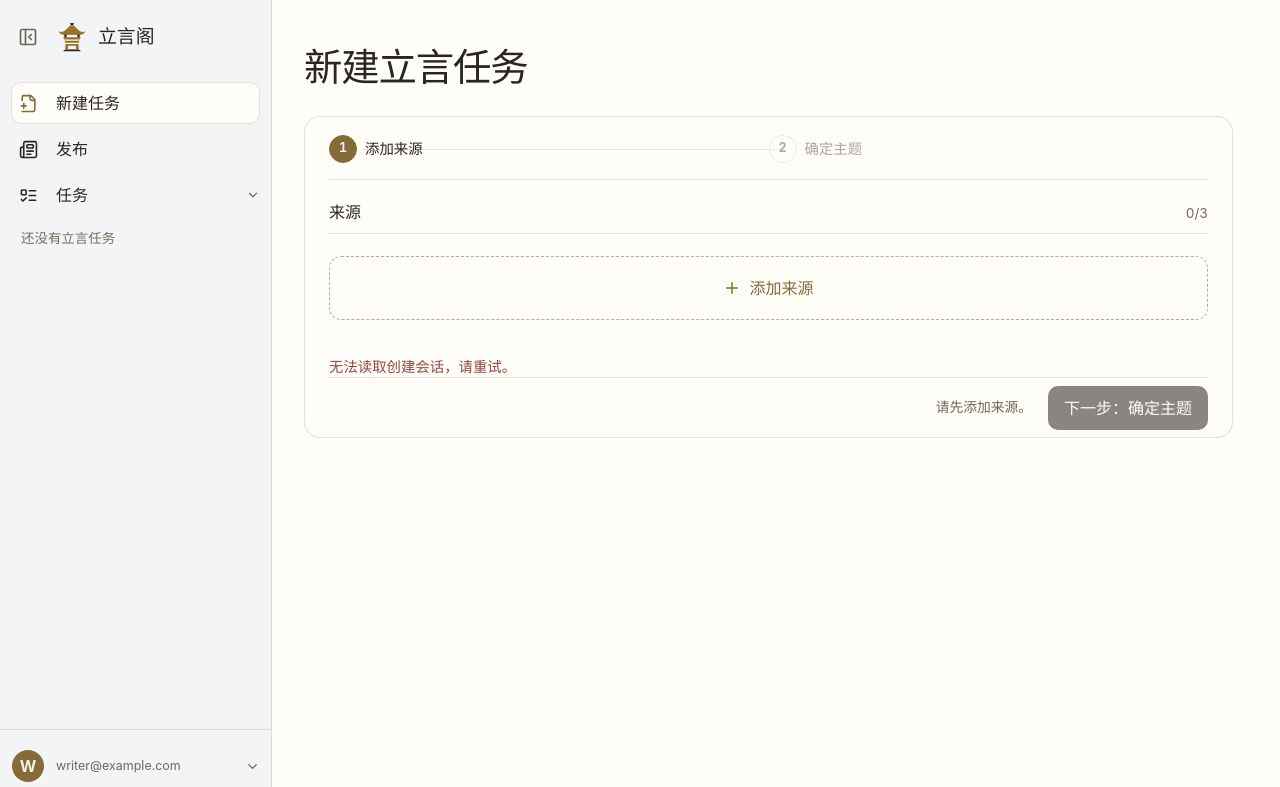
Test case: a session that outlives its access token › returns to sign-in, saying so, when the server refuses a token
This screenshot has width=1280, height=787.
Check: the navigation bar named "主导航" is shown, box x1=0 y1=74 x2=271 y2=174
Click the link "发布".
click(53, 149)  # box x1=18 y1=139 x2=88 y2=159
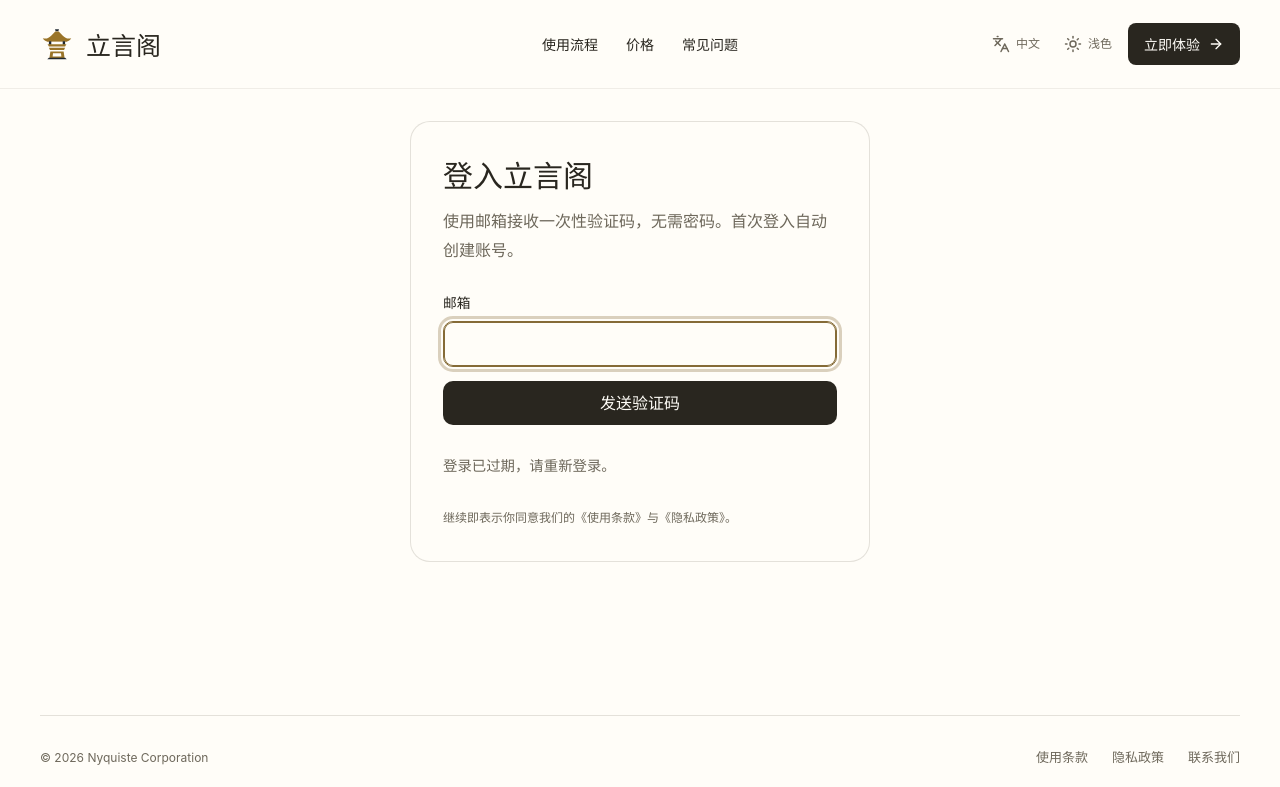
Check: the field labelled "邮箱" is shown, box x1=443 y1=321 x2=837 y2=367
Check: the message reads "登录已过期，请重新登录。", box x1=443 y1=457 x2=616 y2=474
